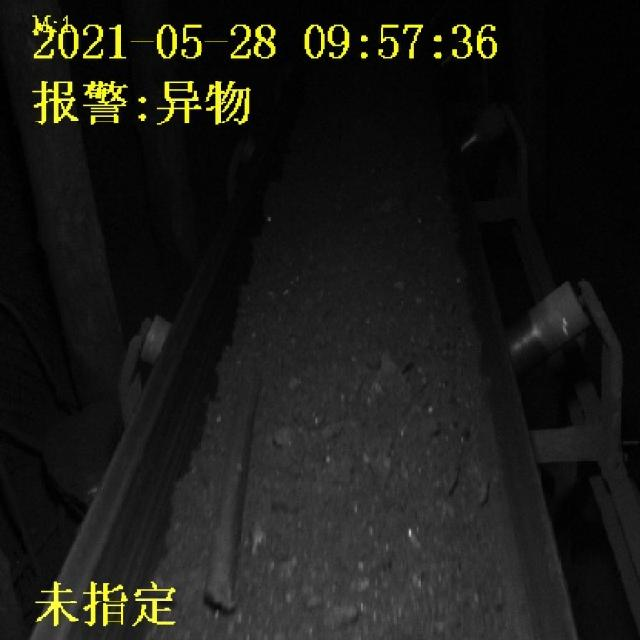bolt: (202, 366, 266, 608)
